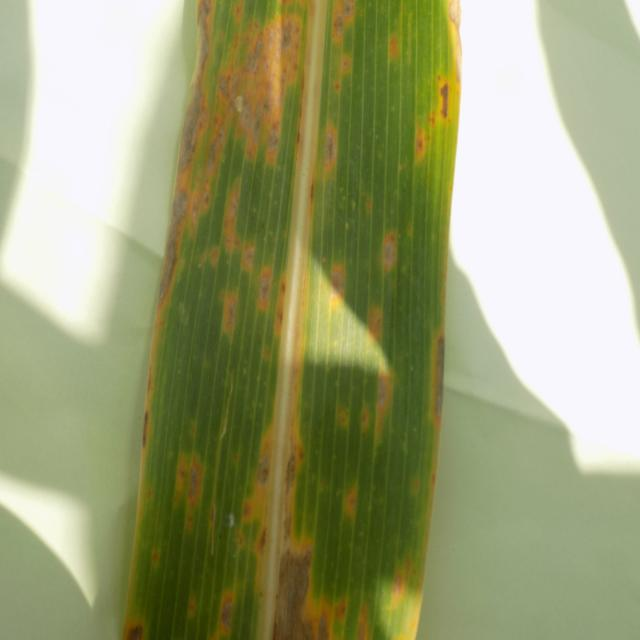millet_rust: (120, 0, 461, 640)
